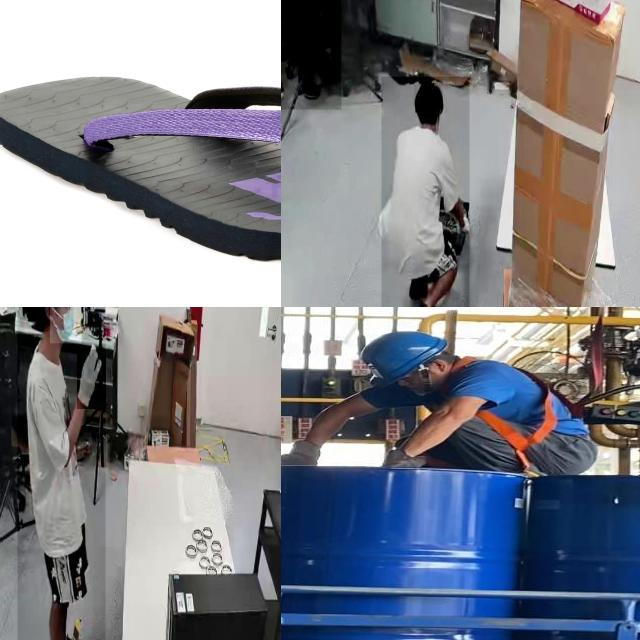Harness: (426, 356, 572, 476)
Sandals: (0, 75, 281, 267)
face_mask: (50, 307, 82, 344)
hand_glove: (77, 350, 107, 409)
head_nohelmet: (414, 80, 444, 102)
person: (17, 307, 106, 640), (381, 76, 470, 307), (281, 0, 342, 110)
shoes: (45, 629, 92, 640)
